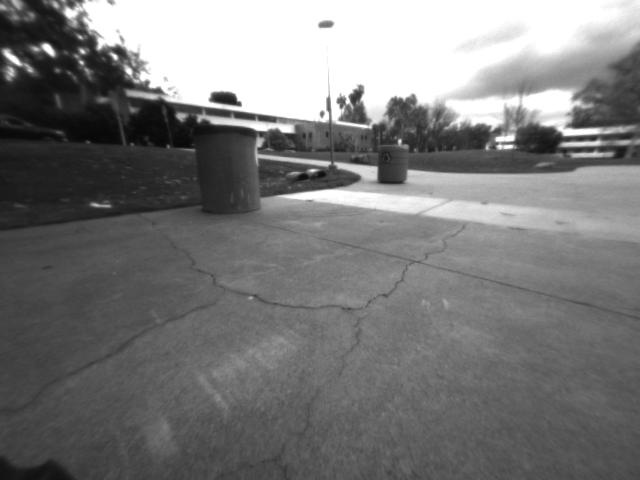trashcan: (181, 116, 271, 220), (370, 136, 414, 190)
